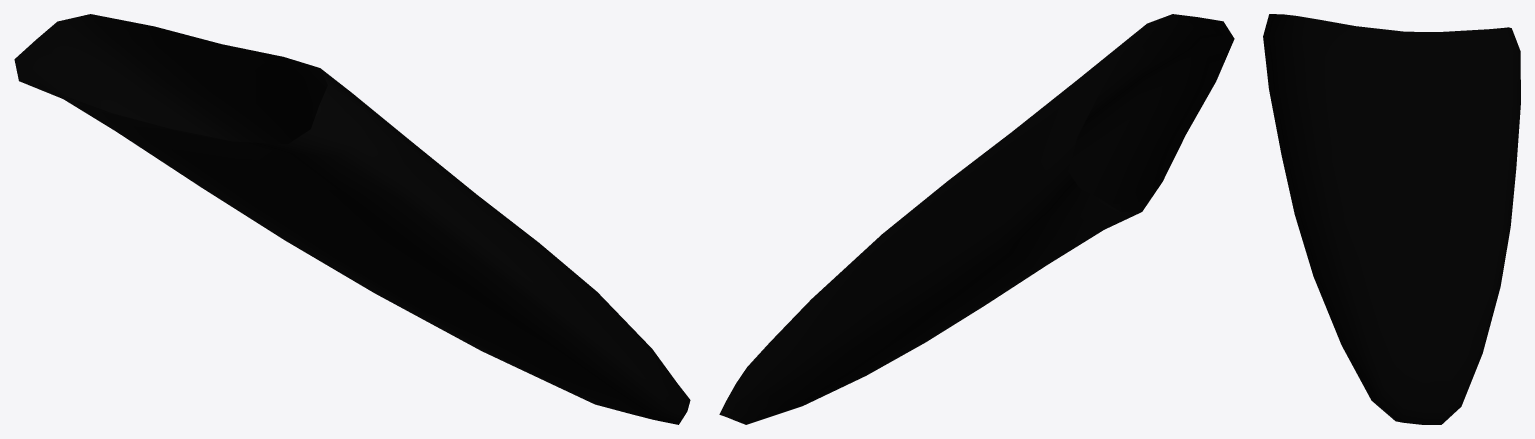
File: Brazo_i.obj
3 renders of one model, left to right at view 1: azimuth 30°, elevation 25°; view 2: azimuth 150°, elevation 25°; view 3: azimuth 270°, elevation 25°, orthographic. The views are drawn at different scales.
Parts seen in each view (by area): view 1: larm; view 2: larm; view 3: larm.
Boxes of the visible parts, box(x1,y1,x2,y2) form: larm: box(14, 14, 690, 424); larm: box(719, 14, 1234, 424); larm: box(1263, 14, 1520, 424).
Bounding box in the file's own units: 4.48 × 3.8 × 3.04.
